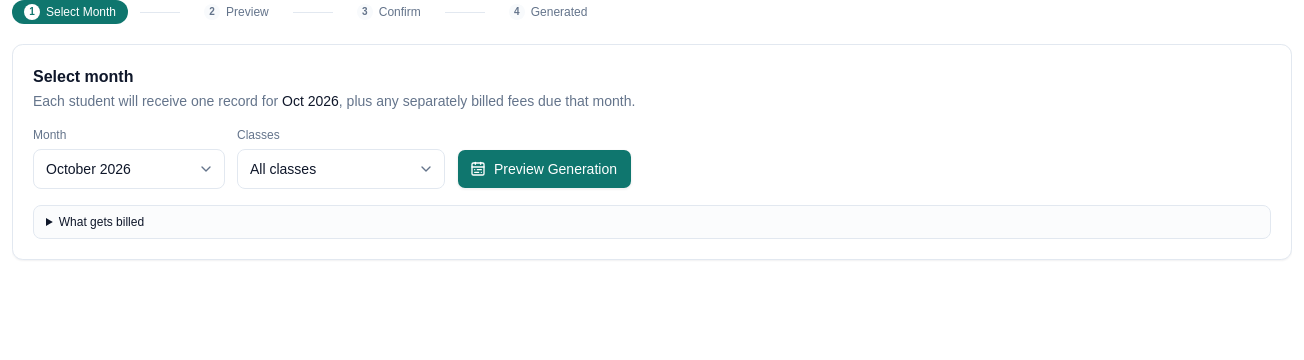
MonthlyGenerationPage › hides money for the Accountant and explains why
Click the button "Preview Generation" at (544,169), box [457, 149, 632, 189]
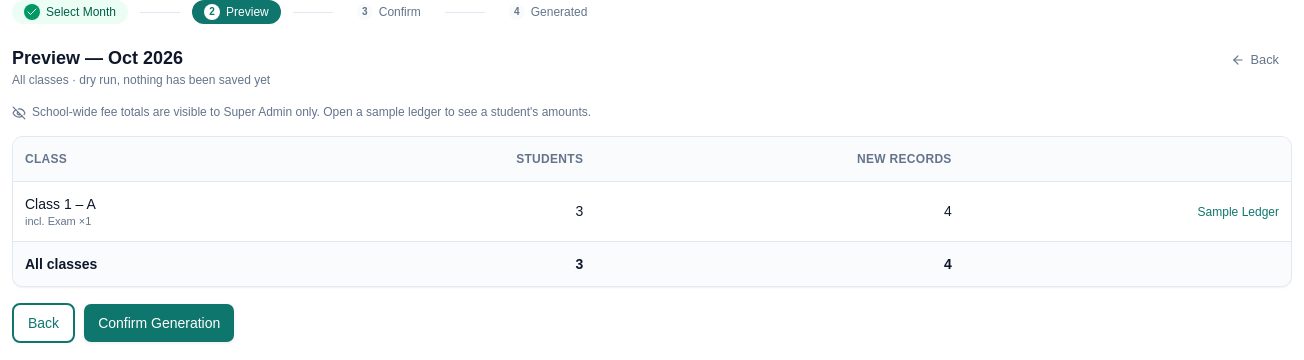
Expected: the text "visible to Super Admin only" is shown, [32, 105, 591, 119]
